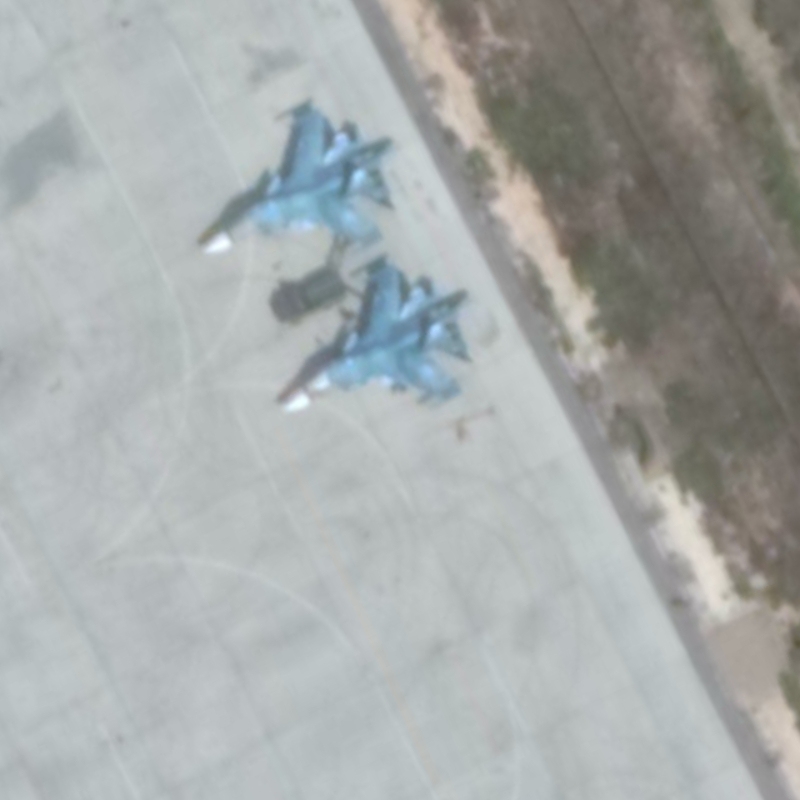A19: (196, 102, 399, 261), (278, 260, 477, 418)
